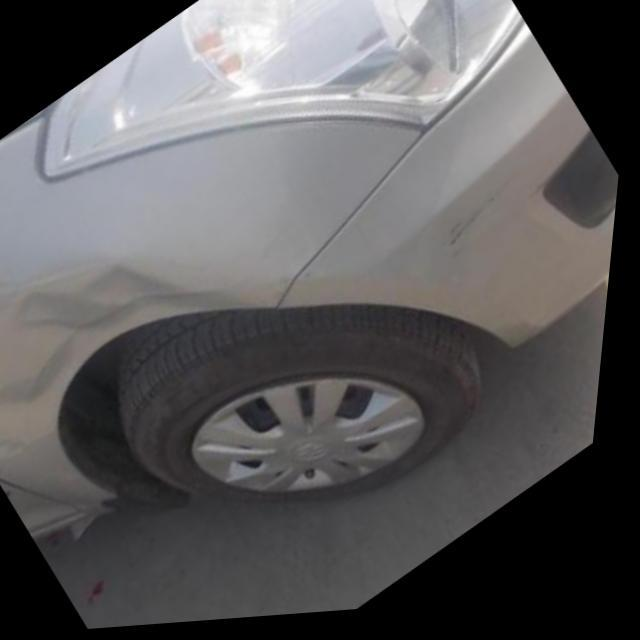dent: (0, 269, 240, 429)
